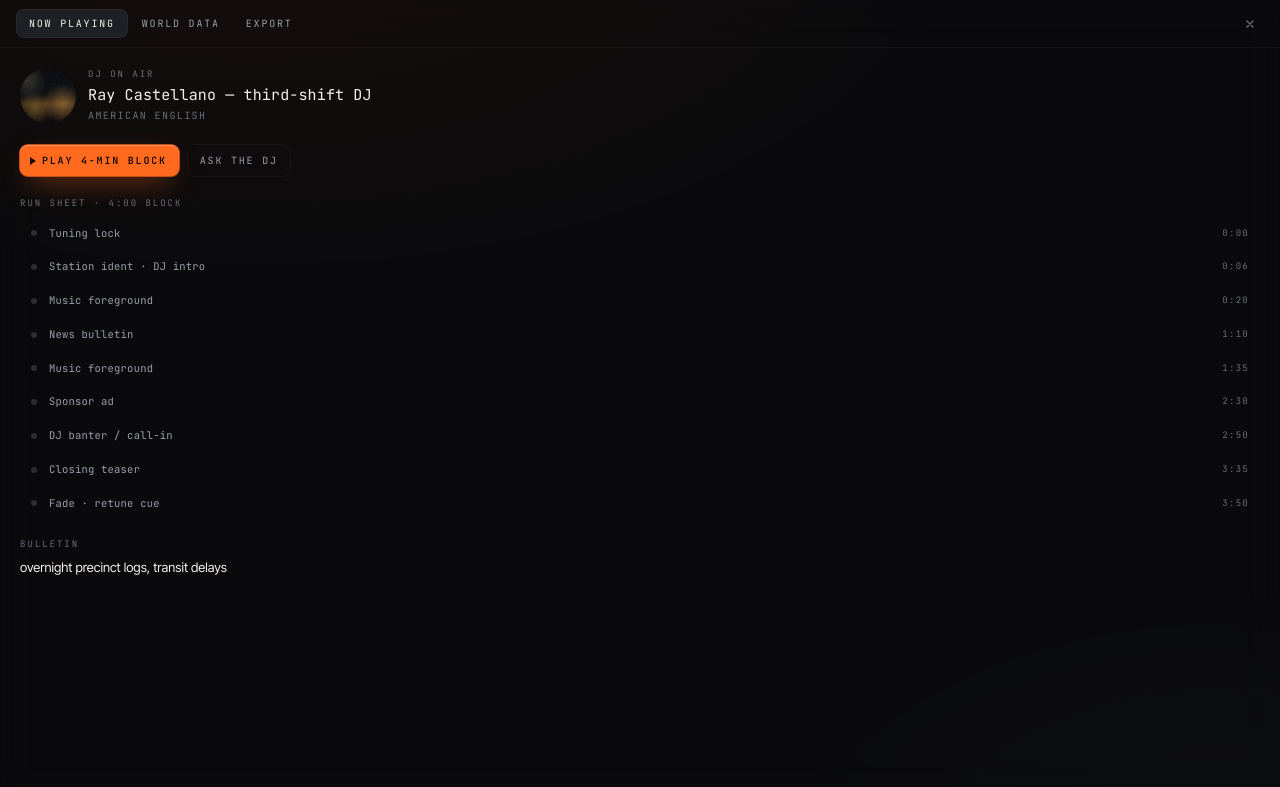
Test: RightPanel › World data tab lists 12 schema fields
Click the tab with test id "tab-world-data".
click(181, 24)  # box [130,10,232,37]
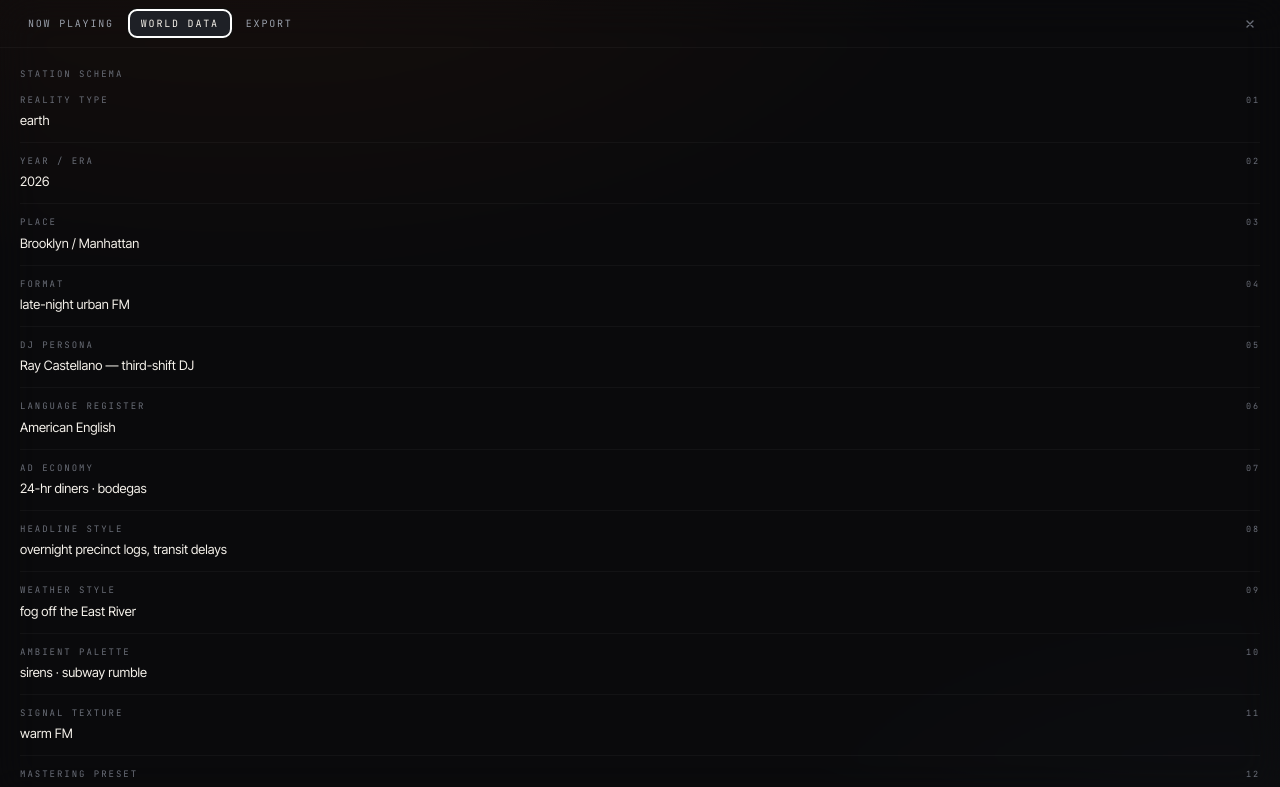
Now the text "Reality type" is shown, box [20,94,109,107]
Now the text "Mastering preset" is shown, box [20,768,138,782]
Now the text "late-night urban FM" is shown, box [20,296,130,312]
